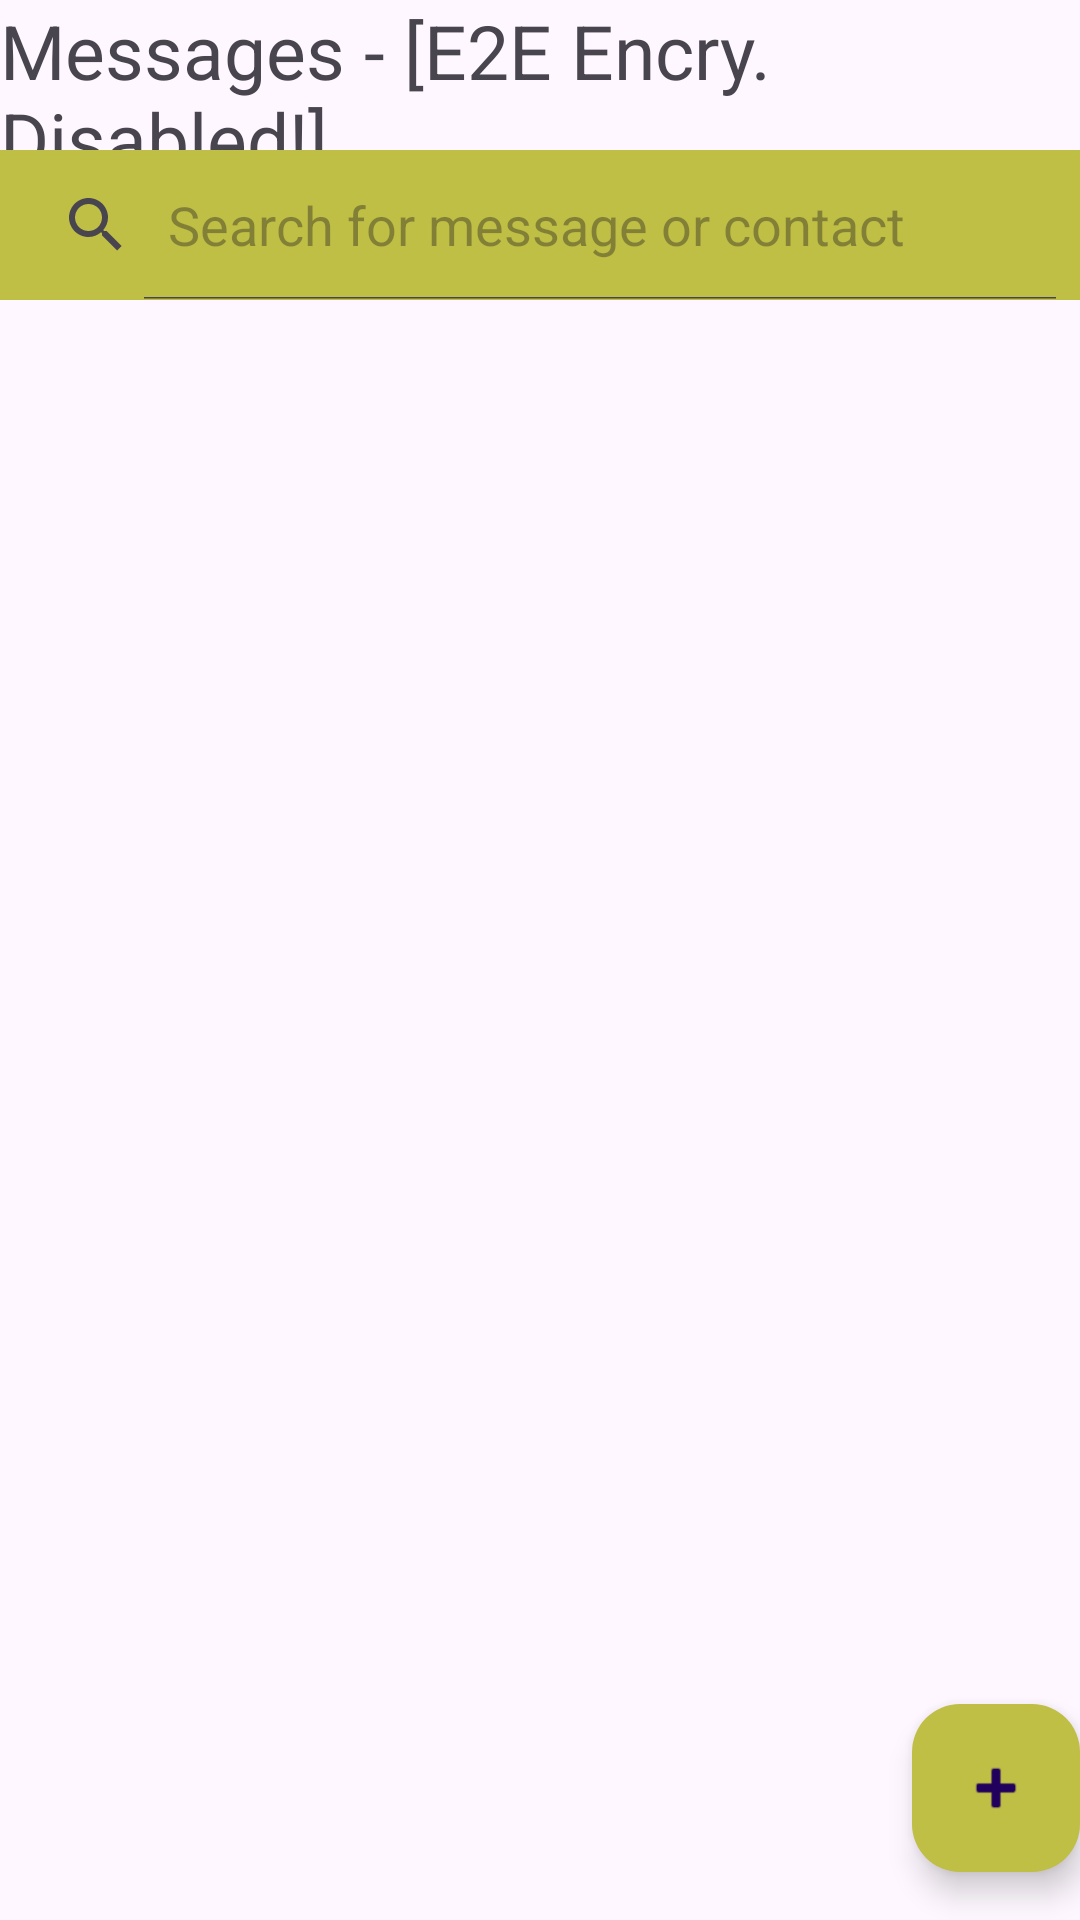

Screen size 1080px x 1920px. Icon name, then its center in pixels as point (x, y):
add: point (996, 1788)
